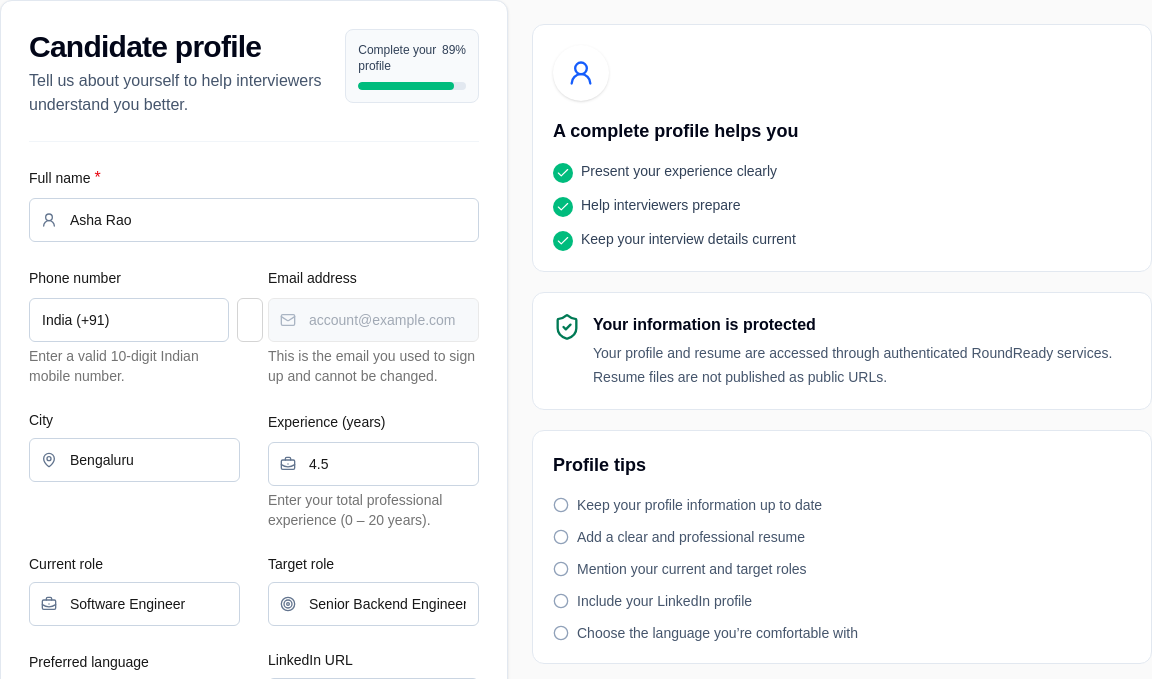
Test: CandidateProfileForm › calculates profile completion from meaningful fields
Expected: the element labelled "Profile 89% complete" is shown, [345,29,479,103]
Clear the field labelled "City" at (134, 460), box [29,438,240,482]
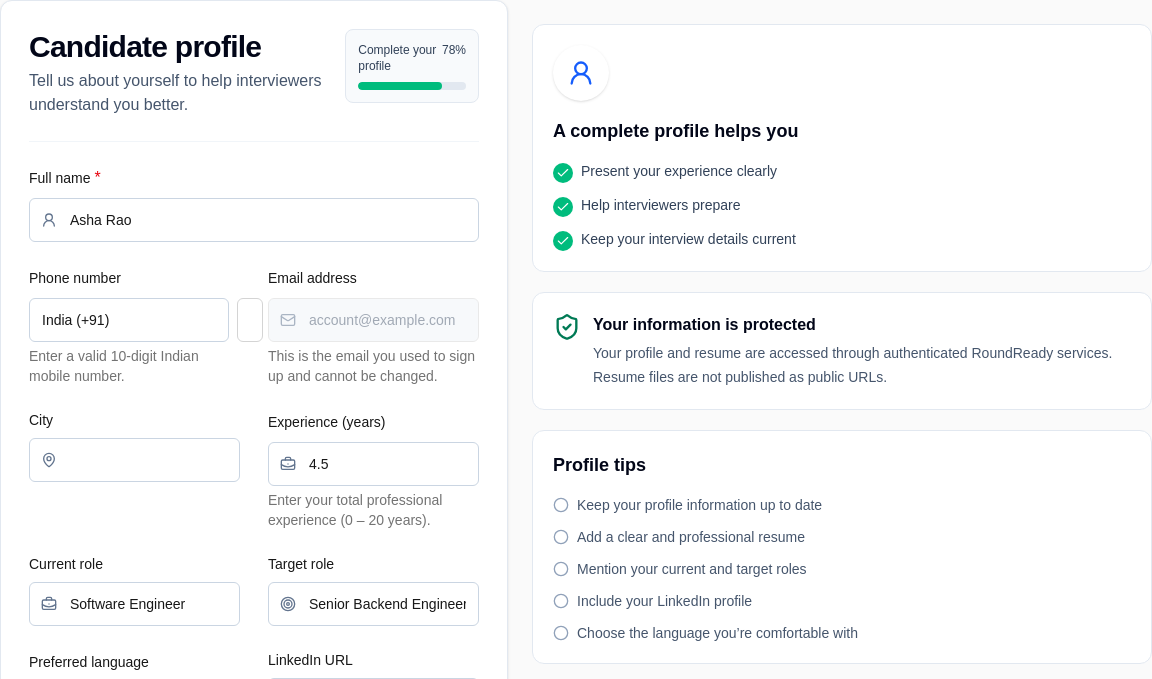
Expected: the element labelled "Profile 78% complete" is shown, [345,29,479,103]
